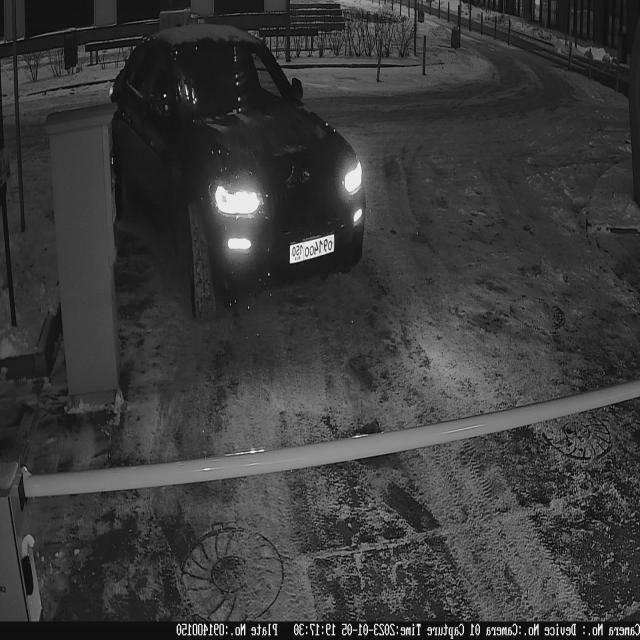car-plate-numbers: (289, 230, 338, 270)
